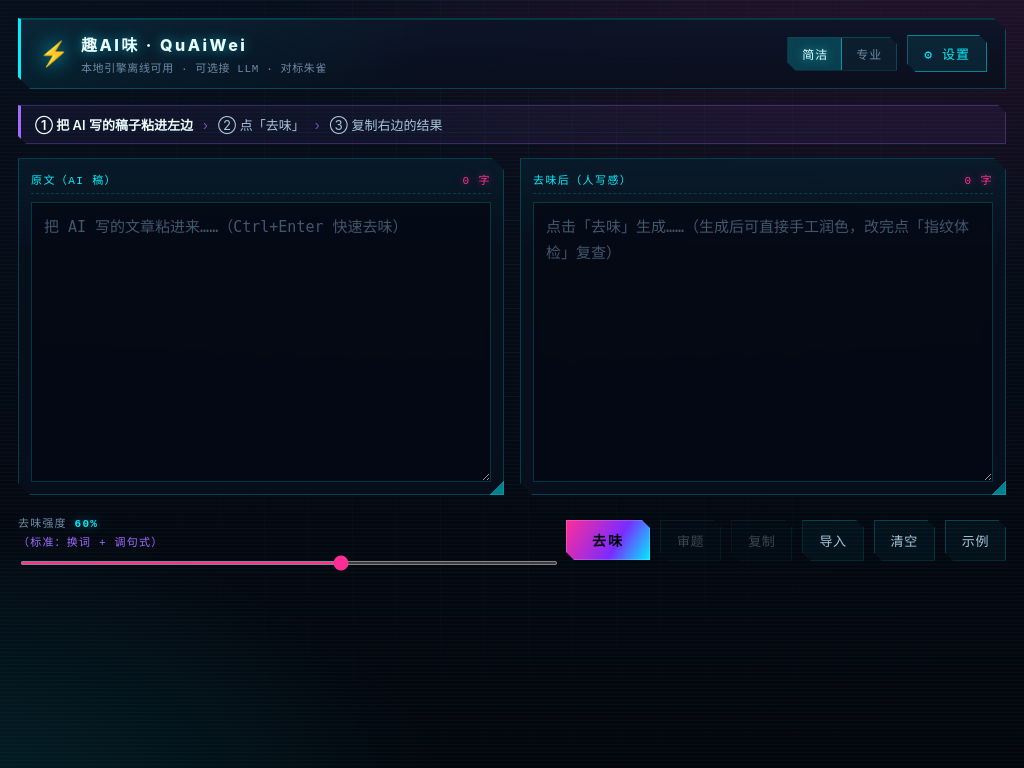
Test: 模式切换：用户可随时切到专业，选择被记住 › 切到专业后工程按钮出现，且写进 localStorage
This screenshot has width=1024, height=768.
Click the button "专业": (869, 54) top-left (842, 38), bottom-right (896, 70)
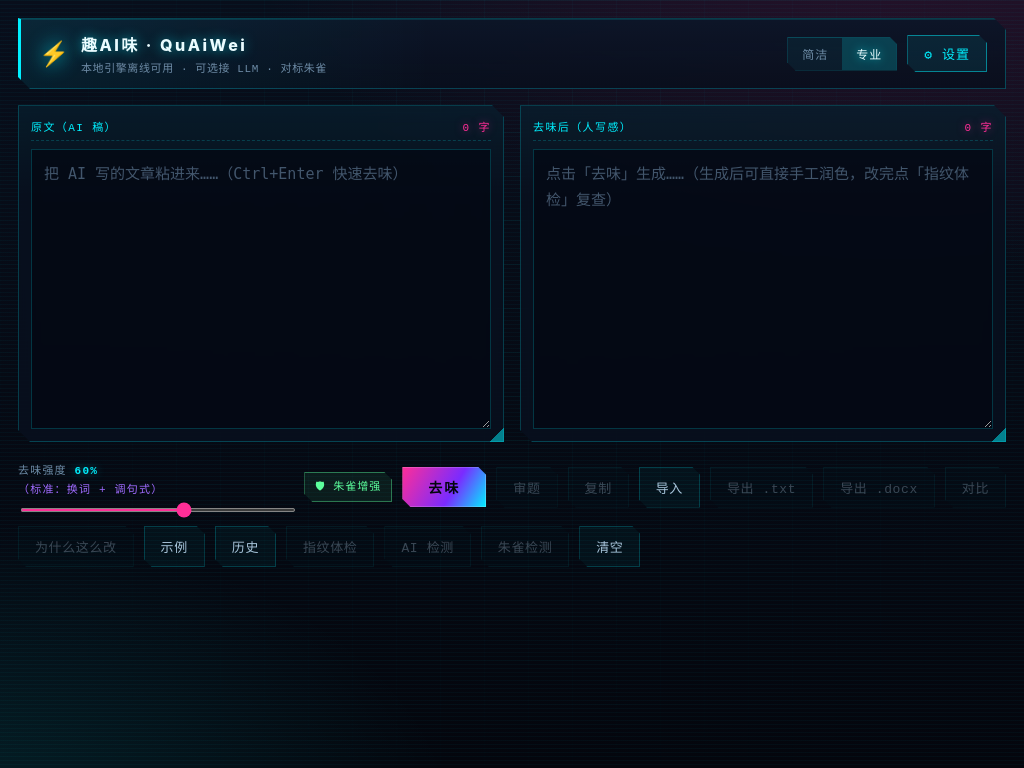
Expected: the checkbox with class "mode-tag" is shown, top-left (304, 472), bottom-right (392, 502)
Expected: the button "导出 .txt" is shown, top-left (710, 466), bottom-right (813, 508)
Expected: the button "导出 .docx" is shown, top-left (823, 466), bottom-right (935, 508)
